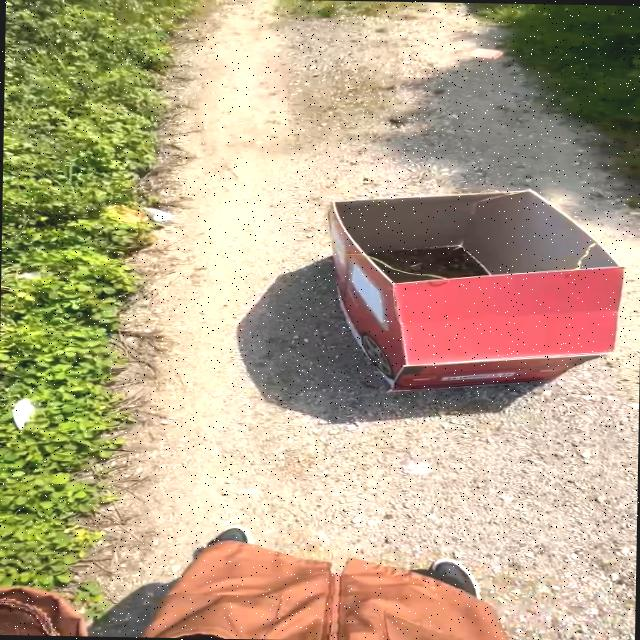red_car: (249, 166, 640, 393)
